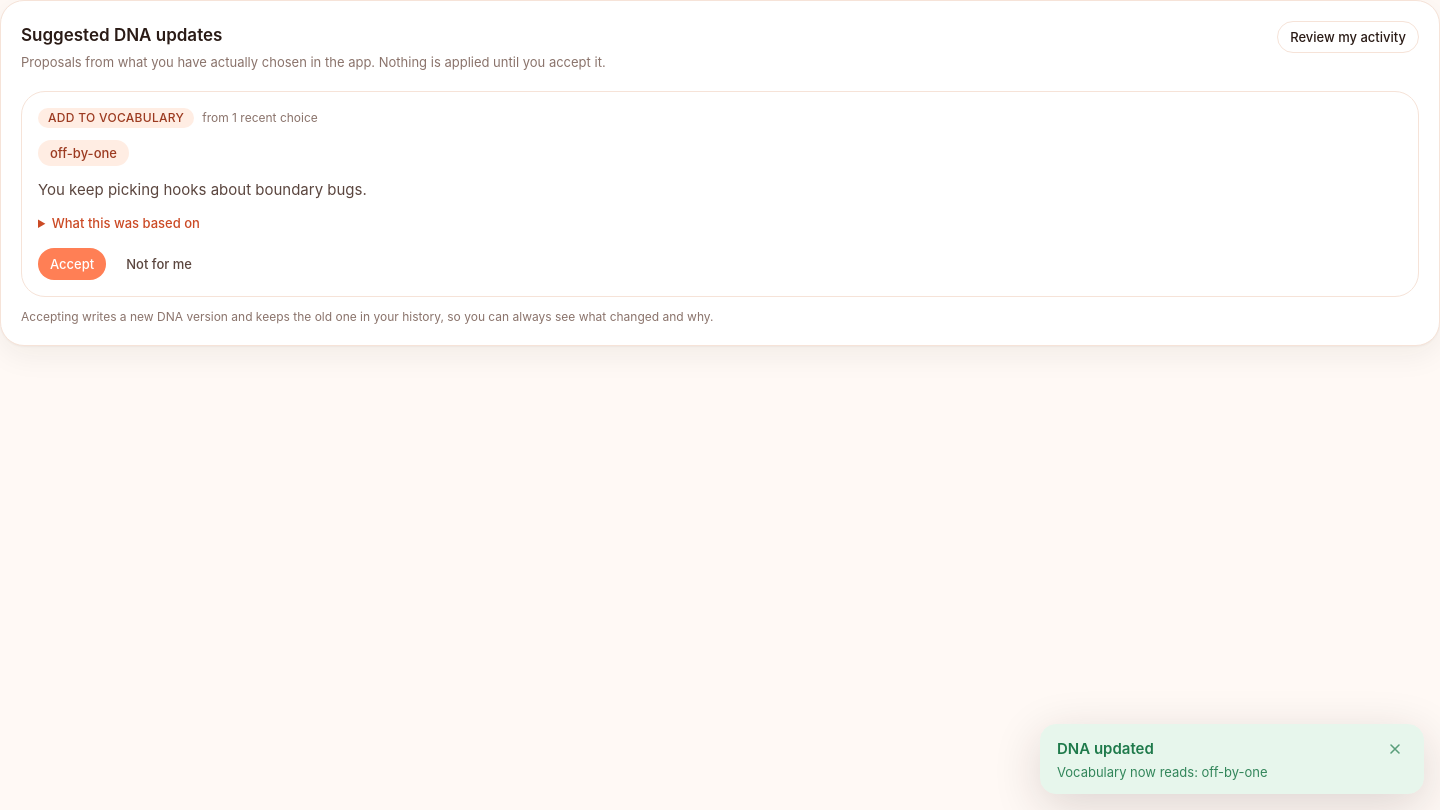
SuggestedUpdates › rejecting posts to the reject endpoint and confirms
Click the button "Not for me" at (159,264), box [114,248,204,280]
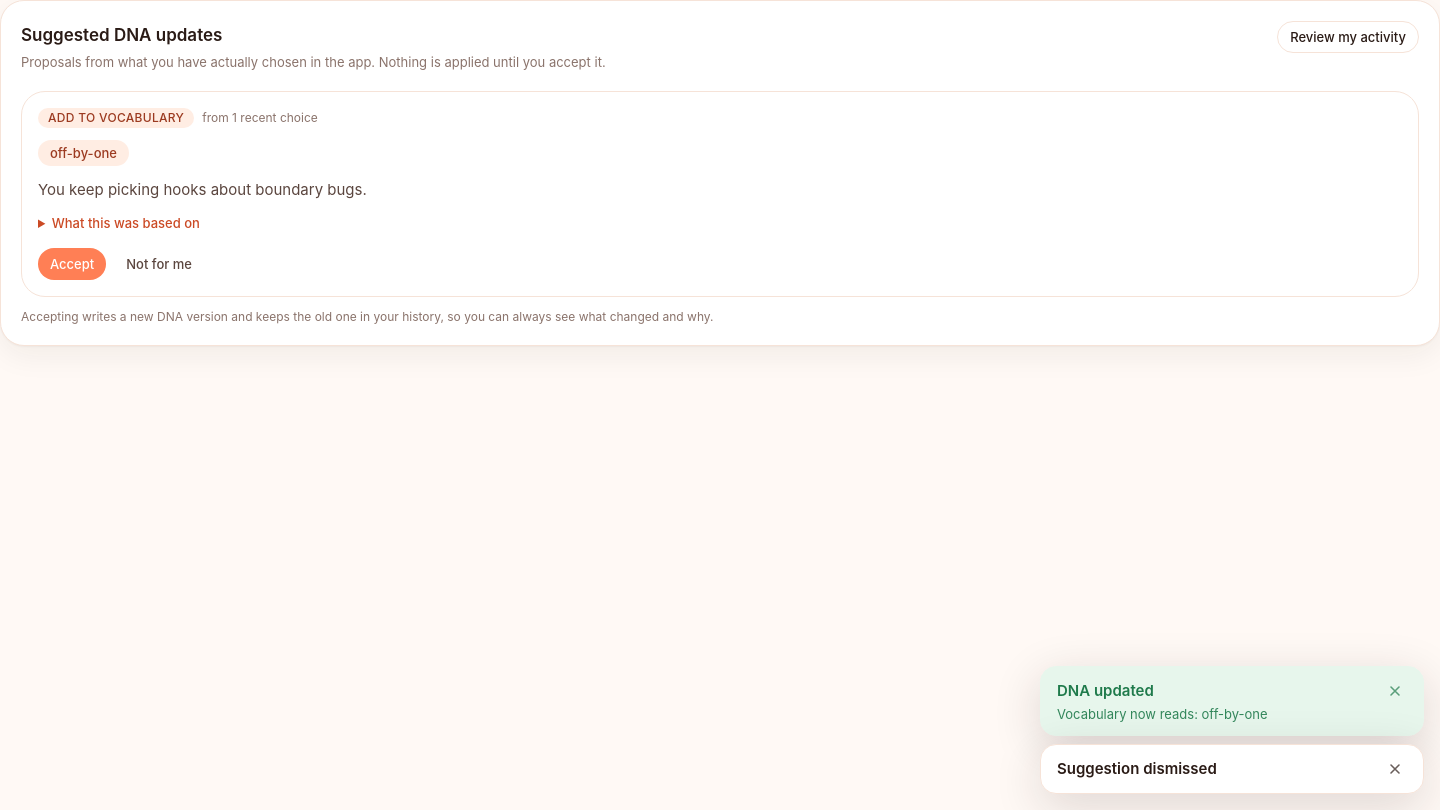
Result: the text "Suggestion dismissed" is shown at [1057,759,1217,778]
